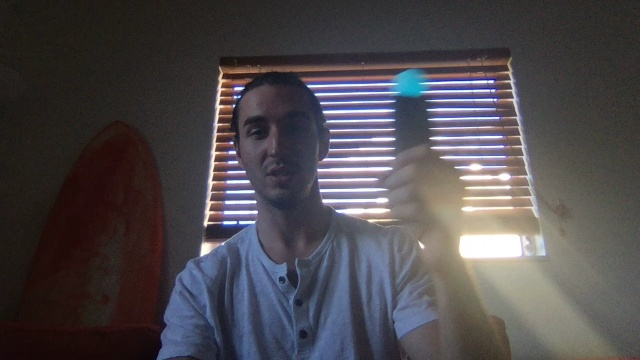wand: (395, 69, 427, 98)
